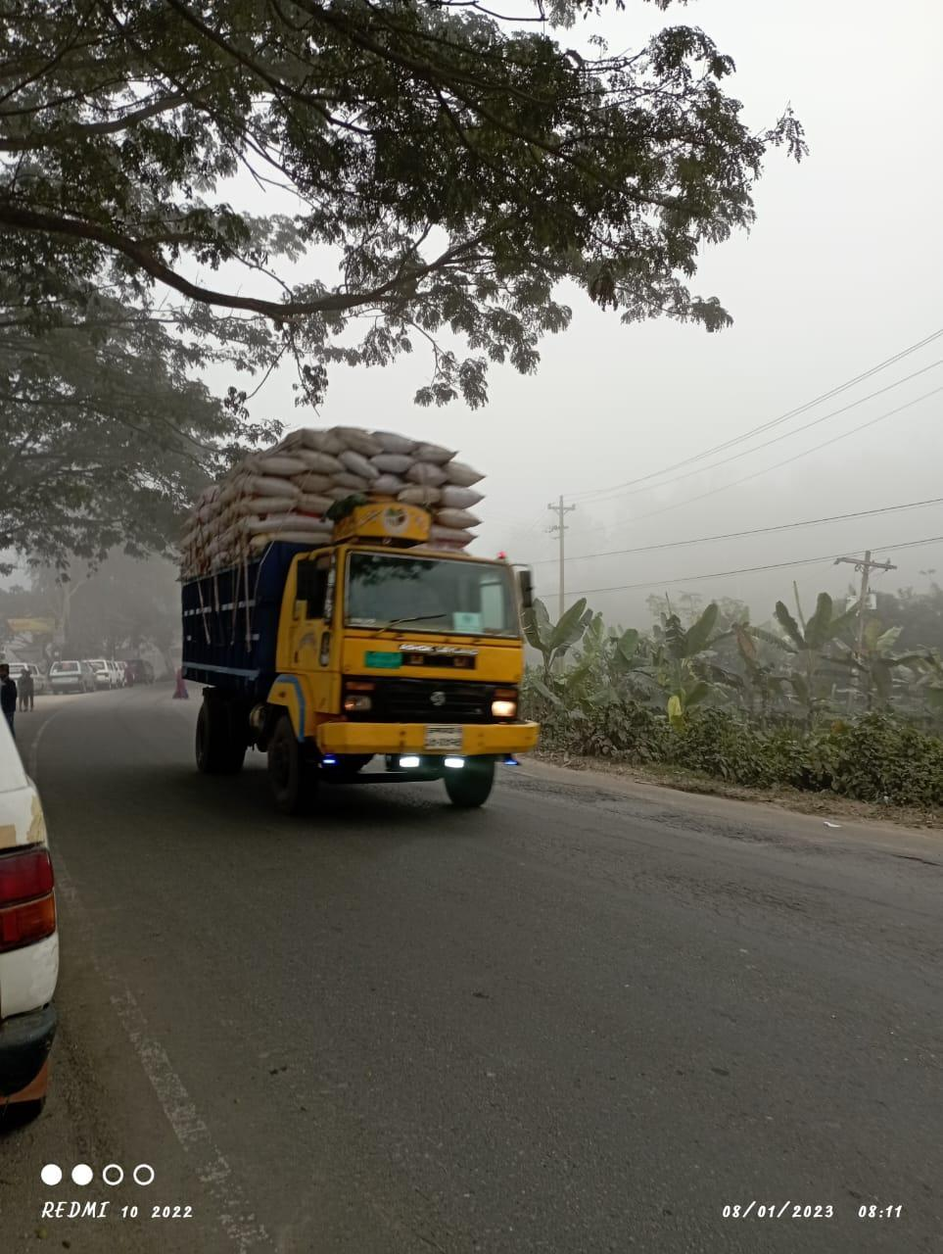Car: (44, 650, 98, 695)
Truck: (173, 424, 546, 822)
